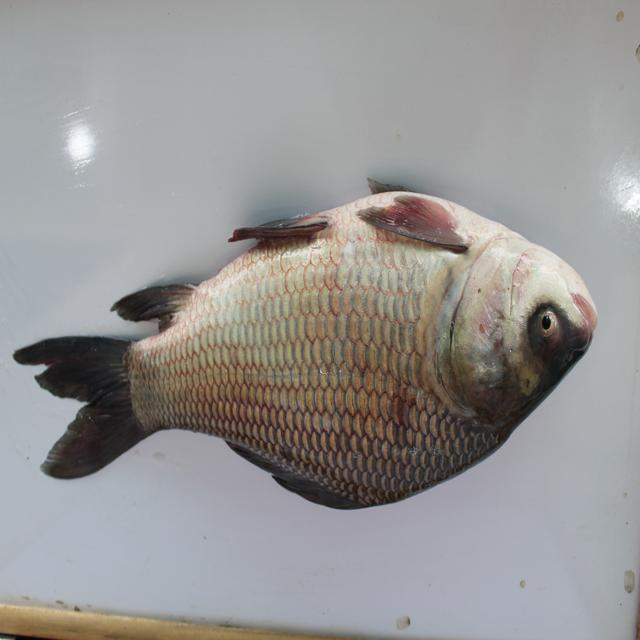Catla: (12, 172, 606, 514)
